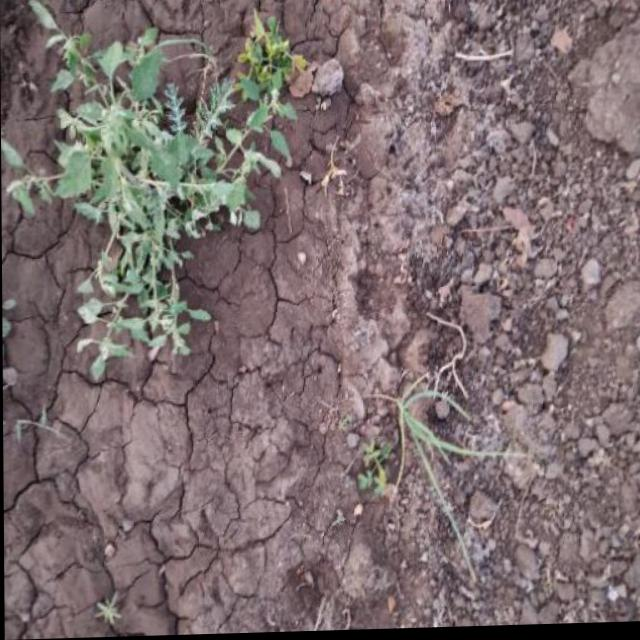weed: (33, 32, 299, 373)
